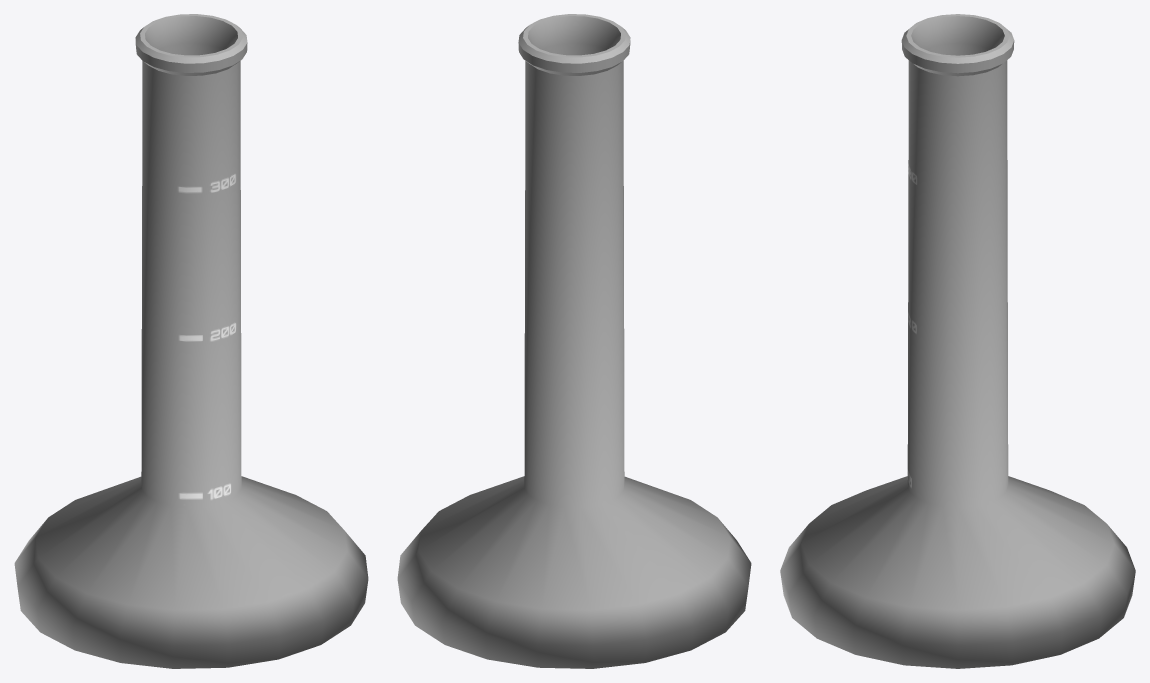
File: lab_frasco_bajo.fbx
3 views of the same model, side by side, from view 1: azimuth 30°, elevation 25°; view 2: azimuth 150°, elevation 25°; view 3: azimuth 270°, elevation 25° (orthographic).
Visible parts, largest first — view 1: lab_frasco_bajo; view 2: lab_frasco_bajo; view 3: lab_frasco_bajo.
Part boxes in pixels (x1=…): lab_frasco_bajo: x1=14, y1=14, x2=368, y2=668; lab_frasco_bajo: x1=397, y1=14, x2=751, y2=668; lab_frasco_bajo: x1=780, y1=14, x2=1135, y2=668.
Size of the model in its own units: 47.01 by 81.92 by 47.01.
1 material, 1 textured.
